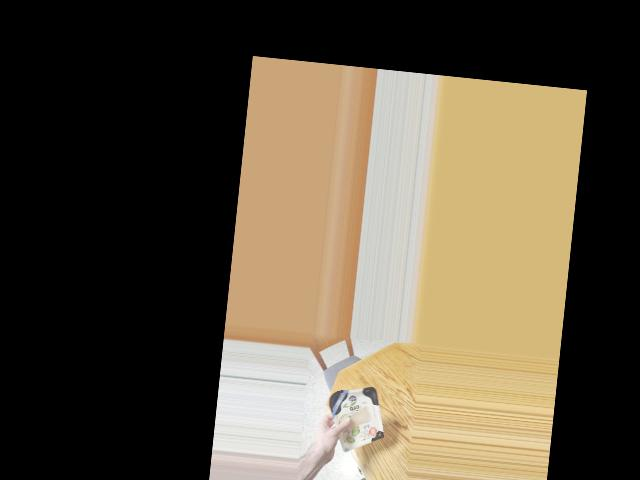cheese: (323, 381, 387, 445)
